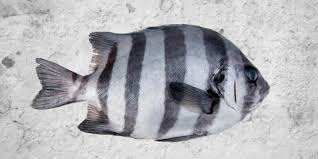azi: (36, 28, 274, 144)
